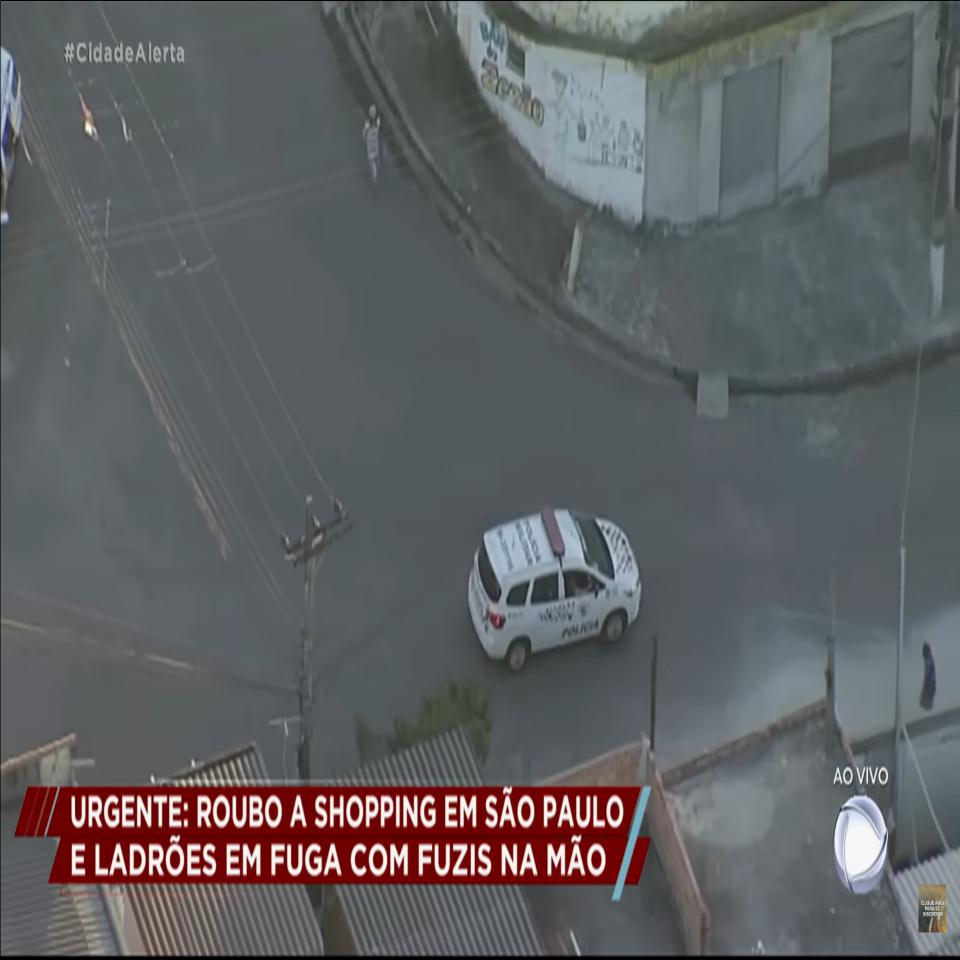viatura: (466, 506, 642, 677)
